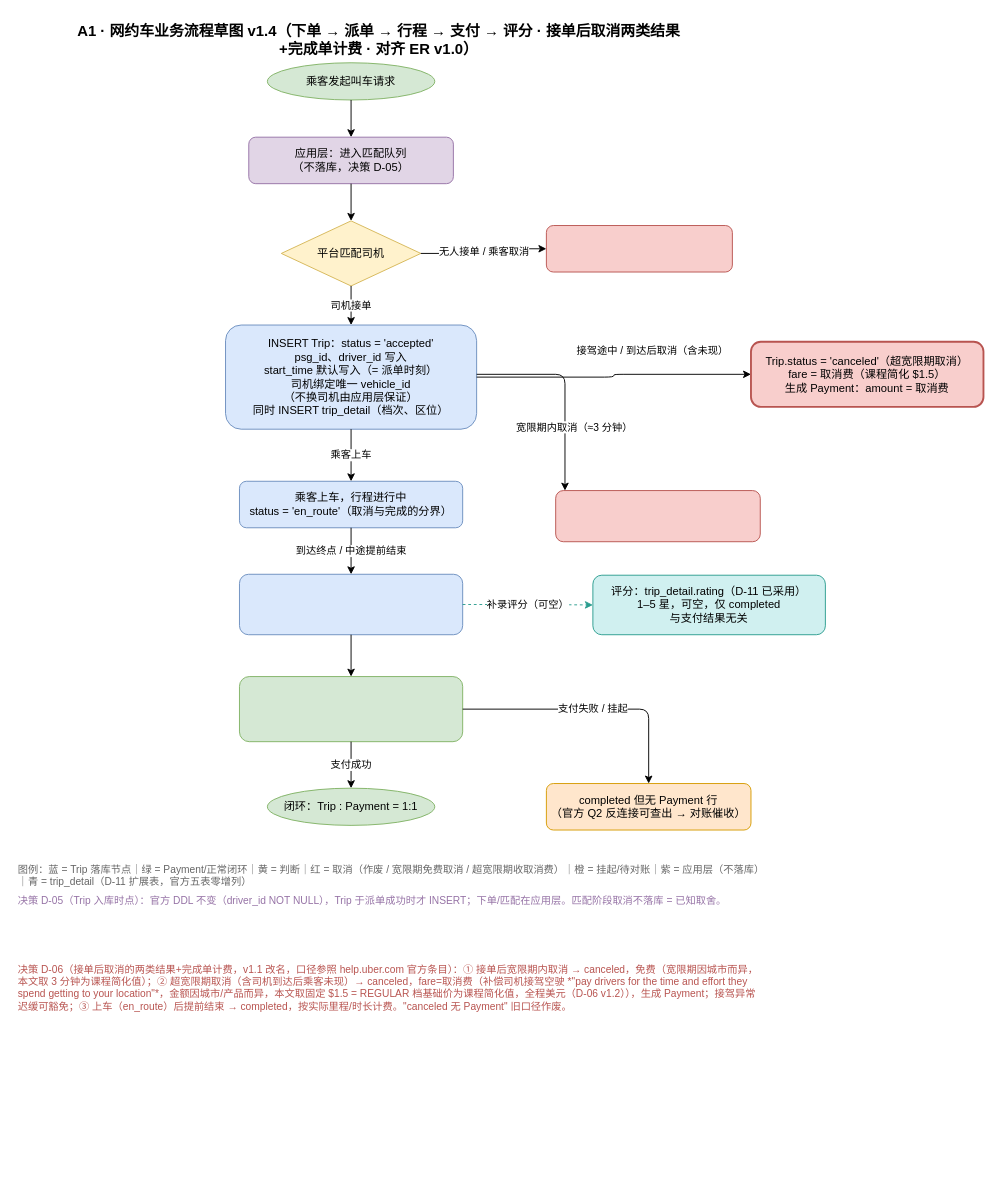
Image size: 1000x1187. Some labels were removed from this diagram. The box of each missing label's shape, as (x1, y1, x2, y2) in pixels:
Trip.status = 'canceled'（宽限期内取消） 免费：无 fare、无 Payment: (555, 490, 760, 542)
生成支付 Payment amount（CHECK ≥ 0）、method trip_id UNIQUE → 每行程至多一笔 （正常车费与取消费共用通道）: (239, 676, 463, 742)
行程结束 status = 'completed' （含乘客中途提前结束） fare 按实际里程/时长结算: (239, 573, 463, 635)
订单作废（不入库） 匹配失败或乘客取消: (545, 225, 732, 272)
